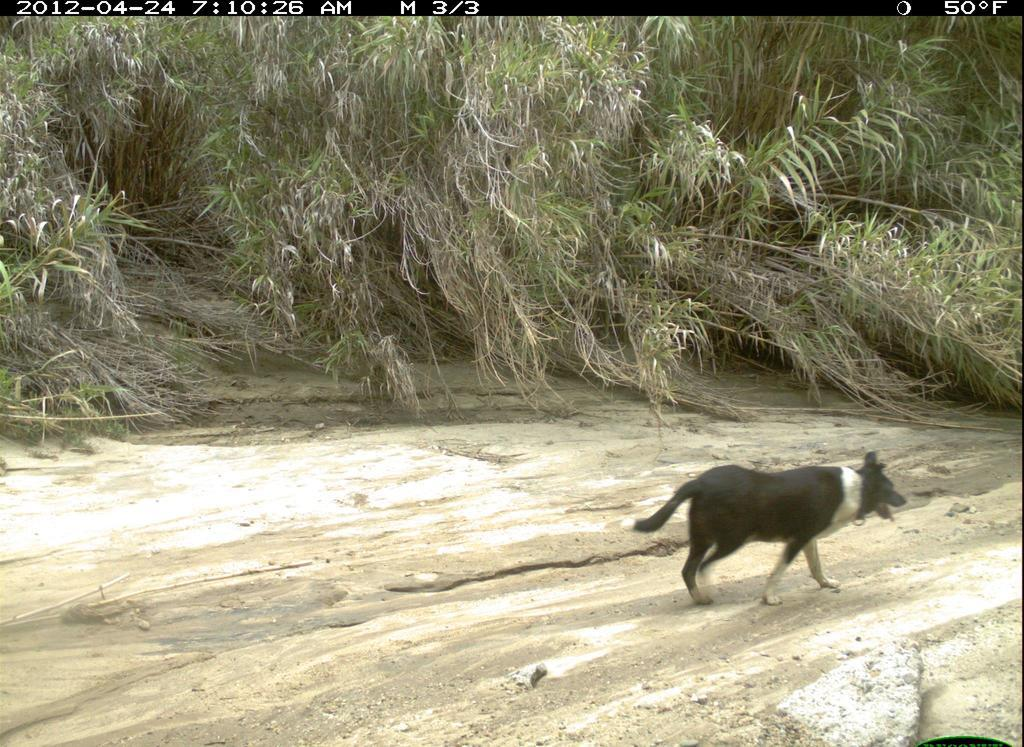dog: (629, 443, 912, 614)
